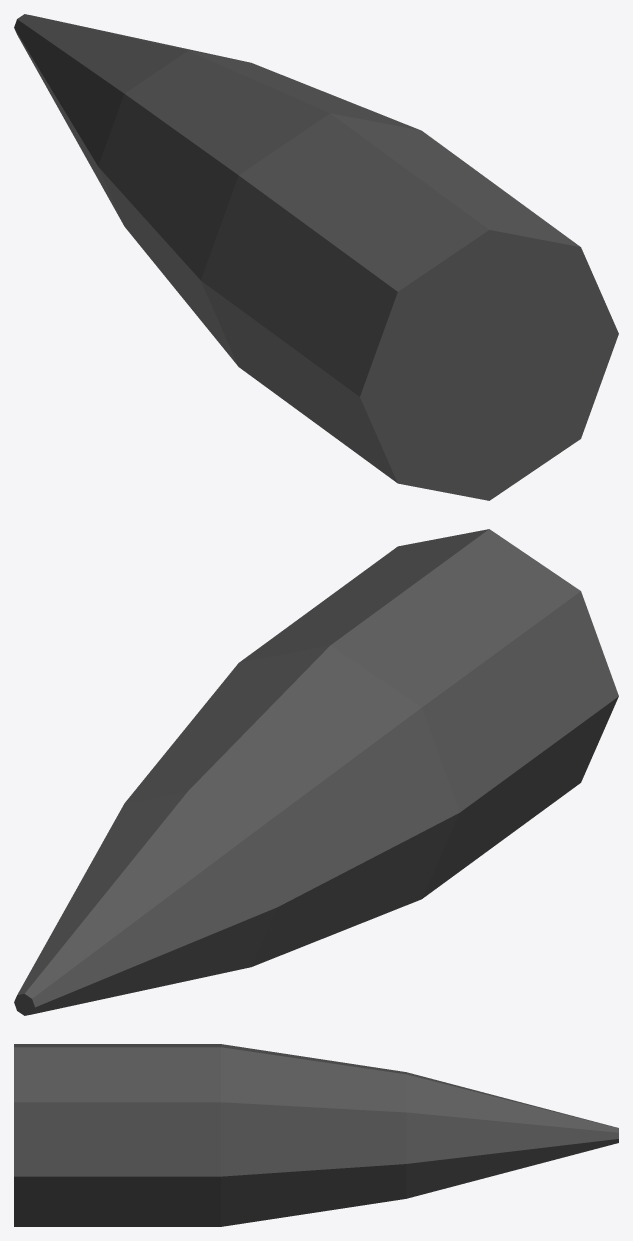
Rendered from Shell.fbx.
3 renders of one model, top to bottom at view 1: azimuth 30°, elevation 25°; view 2: azimuth 150°, elevation 25°; view 3: azimuth 270°, elevation 25°, orthographic. The views are drawn at different scales.
Parts seen in each view (by area): view 1: Shell; view 2: Shell; view 3: Shell.
Part boxes in pixels (<box>): Shell: <box>14,14,618,500</box>; Shell: <box>14,529,618,1015</box>; Shell: <box>14,1044,618,1226</box>.
Bounding box in the file's own units: 18.19 × 18.19 × 56.55.
